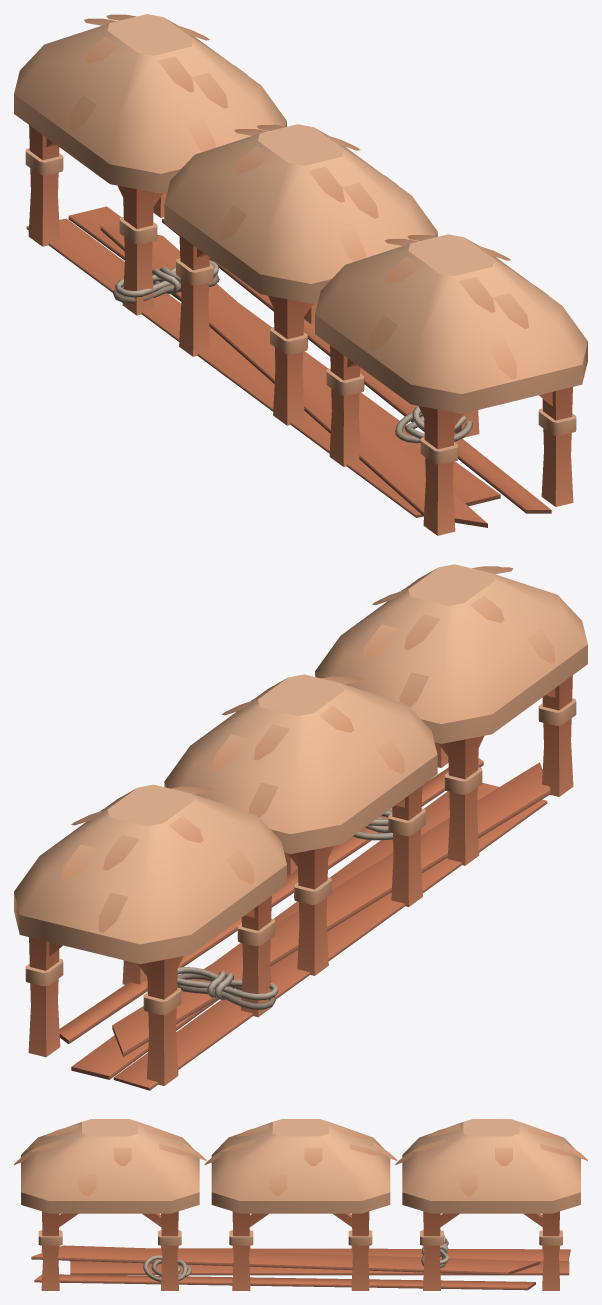
The model's file is london_bld_ropewalk.glb.
The picture shows the model from 3 angles, top to bottom: view 1: azimuth 30°, elevation 25°; view 2: azimuth 150°, elevation 25°; view 3: azimuth 270°, elevation 25°; orthographic projection. The views are drawn at different scales.
Parts seen in each view (by area): view 1: structure-roof (×3), platform-planks, rope_bundle_A, rope_bundle_B; view 2: structure-roof (×3), platform-planks, rope_bundle_A; view 3: structure-roof (×3), platform-planks, rope_bundle_B, rope_bundle_A.
Boxes of the visible parts, left/top/right/bottom form: structure-roof (×3): left=14, top=14, right=587, bottom=535; platform-planks: left=26, top=206, right=551, bottom=527; rope_bundle_A: left=113, top=260, right=219, bottom=303; rope_bundle_B: left=395, top=406, right=472, bottom=443; structure-roof (×3): left=14, top=564, right=587, bottom=1085; platform-planks: left=59, top=758, right=550, bottom=1090; rope_bundle_A: left=177, top=967, right=278, bottom=1009; structure-roof (×3): left=14, top=1119, right=587, bottom=1290; platform-planks: left=31, top=1245, right=570, bottom=1290; rope_bundle_B: left=143, top=1255, right=191, bottom=1281; rope_bundle_A: left=421, top=1234, right=449, bottom=1268.
Bounding box in the file's own units: 4.47 × 5.27 × 19.27.
Materials: 4 (4 with a texture image).
